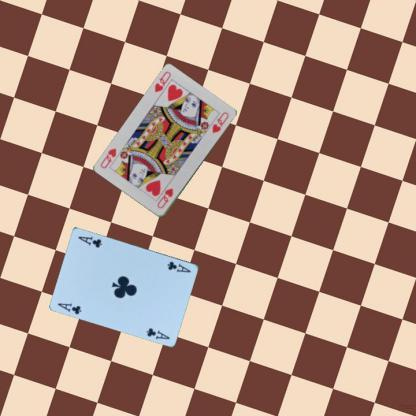Ac: (56, 300, 83, 316), (164, 259, 192, 274)
Qh: (152, 68, 172, 94), (154, 186, 174, 210)
